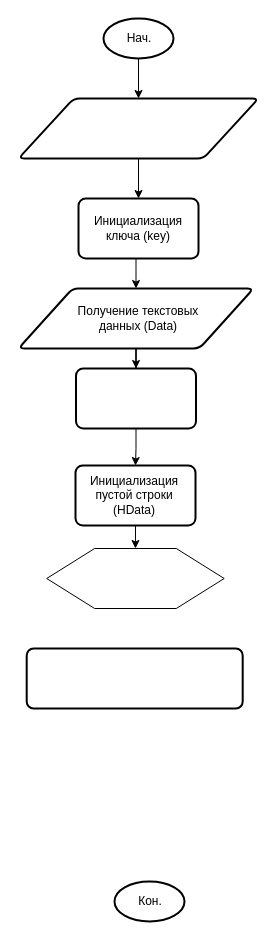
Some shapes in this 276 by 939 pixel diagram are drawn without their labels. Here are the shapes that lost their labels. From the top down, the centre of each, then its label:
At (x=138, y=128): "Получение ключа".
At (x=135, y=398): "Получение ключевого потока длинной (DataMax)".
At (x=135, y=578): "i=0; i<DataMax; i++".
